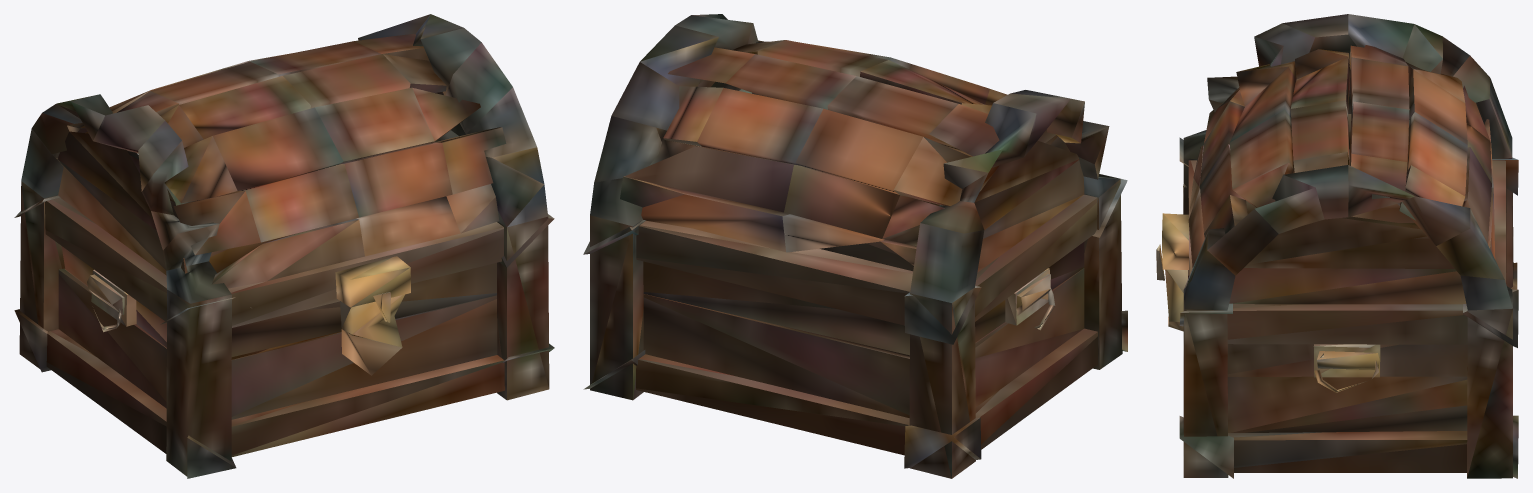
File: chest.lod2.glb
3 renders of one model, left to right at view 1: azimuth 30°, elevation 25°; view 2: azimuth 150°, elevation 25°; view 3: azimuth 270°, elevation 25°, orthographic. The views are drawn at different scales.
Bounding box in the file's own units: 0.768 × 0.6 × 0.672.
Materials: 1 (1 with a texture image).
